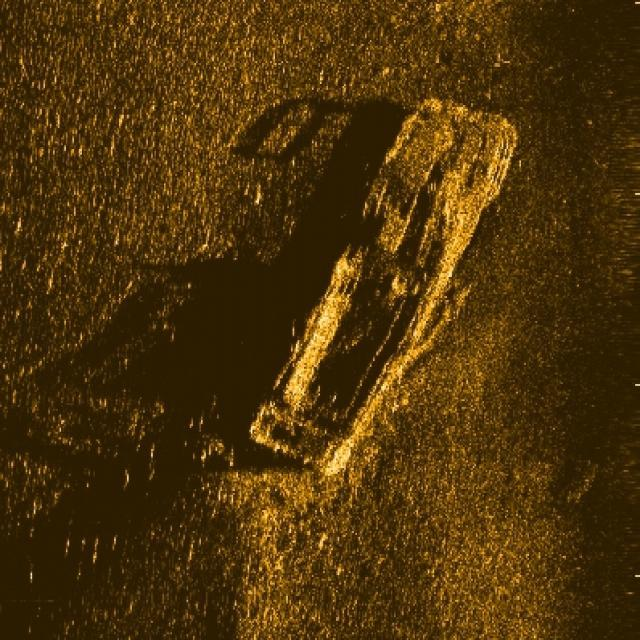shipwreck: (246, 90, 521, 474)
